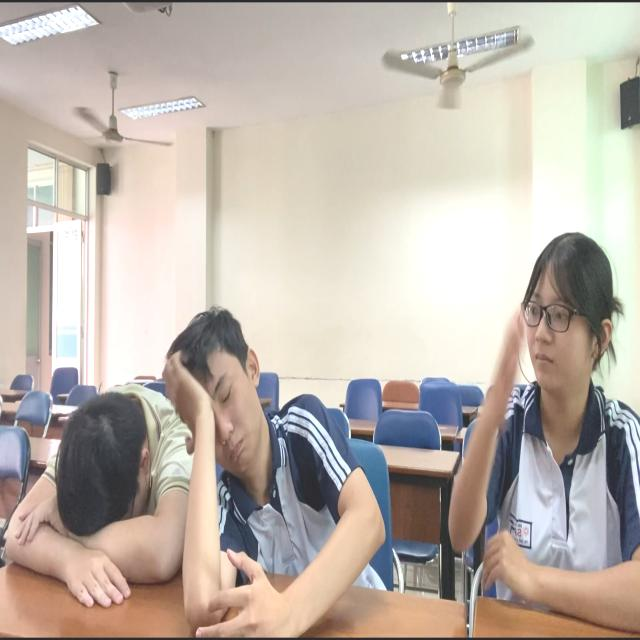raise_hand: (430, 141, 640, 640)
